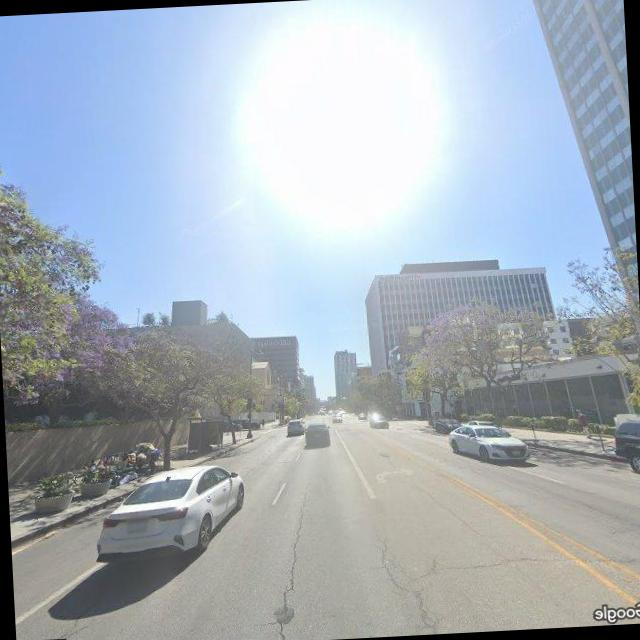crack: (259, 491, 321, 640), (419, 543, 640, 582), (372, 528, 451, 636)
